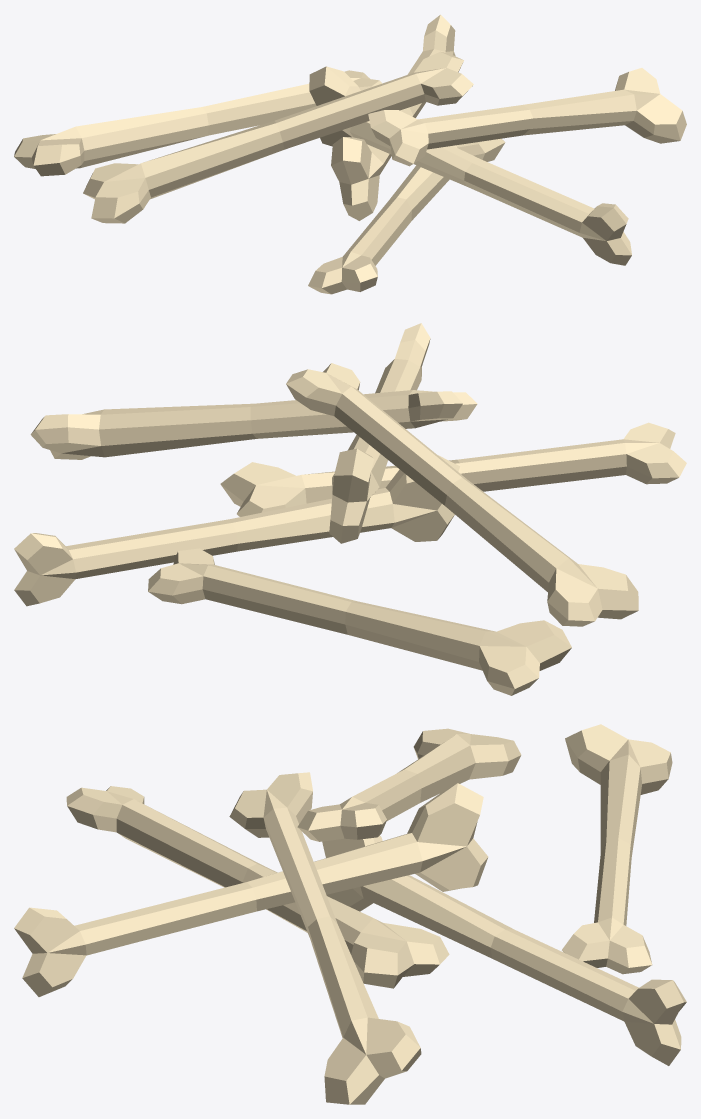
The model's file is Bones-obstacle Variation 1.fbx.
3 views of the same model, one above another, from view 1: azimuth 30°, elevation 25°; view 2: azimuth 150°, elevation 25°; view 3: azimuth 270°, elevation 25° (orthographic). The views are drawn at different scales.
Visible parts, largest first — view 1: Plane.004; view 2: Plane.004; view 3: Plane.004.
Boxes of the visible parts, box(x1,y1,x2,y2) form: Plane.004: box(14, 14, 686, 294); Plane.004: box(14, 323, 686, 695); Plane.004: box(14, 724, 686, 1104).
Bounding box in the file's own units: 1432 × 358 × 1200.
